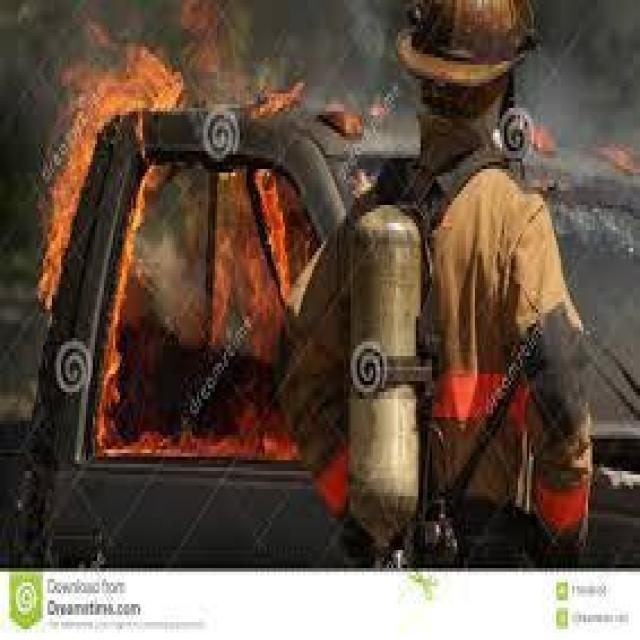fire: (4, 4, 334, 474)
